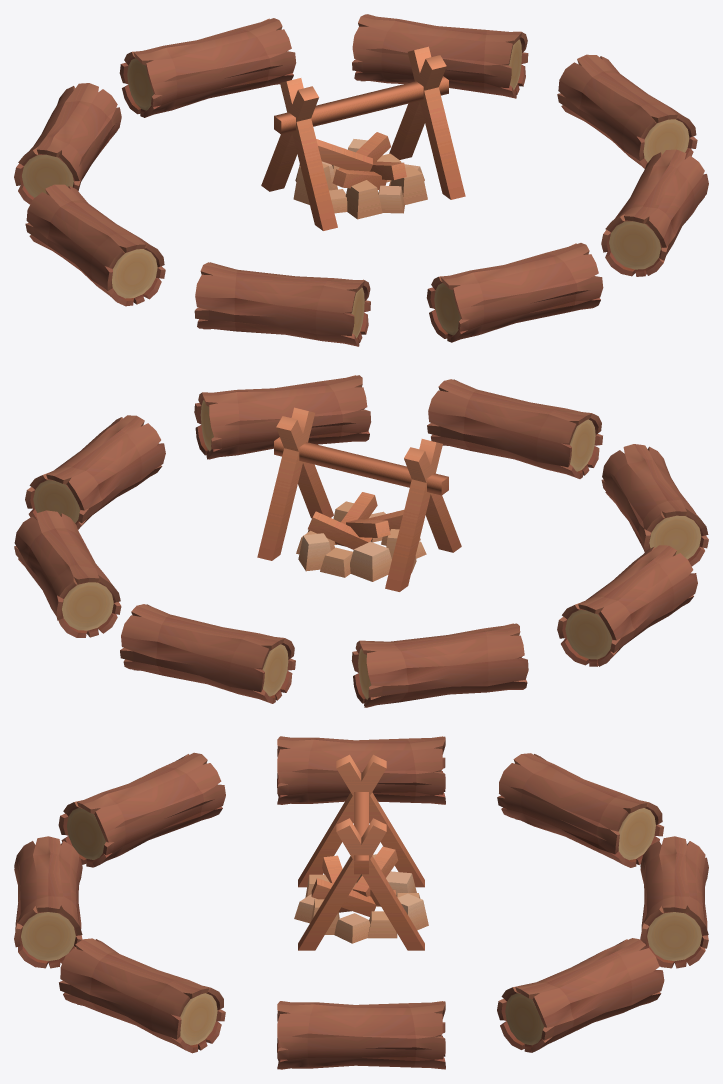
Rendered from Camp Fire.glb.
3 renders of one model, top to bottom at view 1: azimuth 30°, elevation 25°; view 2: azimuth 150°, elevation 25°; view 3: azimuth 270°, elevation 25°, orthographic.
Parts seen in each view (by area): view 1: campfire-fishing-stand; view 2: campfire-fishing-stand; view 3: campfire-fishing-stand.
Boxes of the visible parts, x1,y1,x2,y2 form: campfire-fishing-stand: [14, 14, 708, 346]; campfire-fishing-stand: [14, 375, 708, 707]; campfire-fishing-stand: [14, 736, 708, 1069].
Bounding box in the file's own units: 5.55 × 1.28 × 5.55.
Materials: 2 (2 with a texture image).
